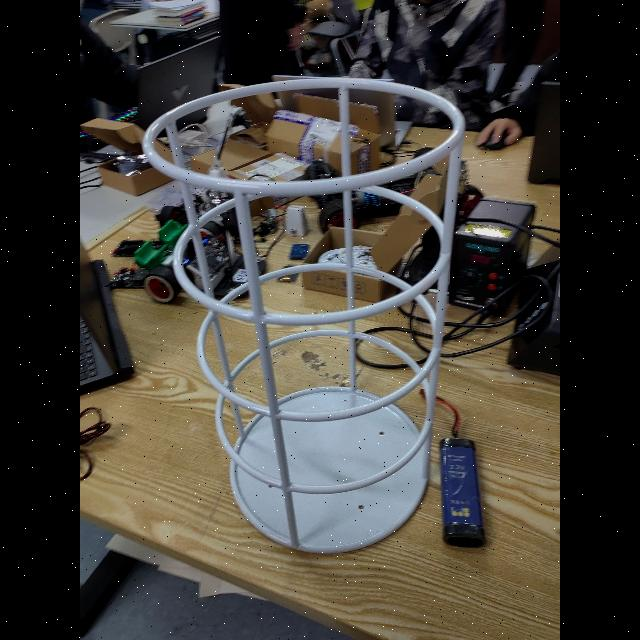S: (139, 74, 469, 562)
